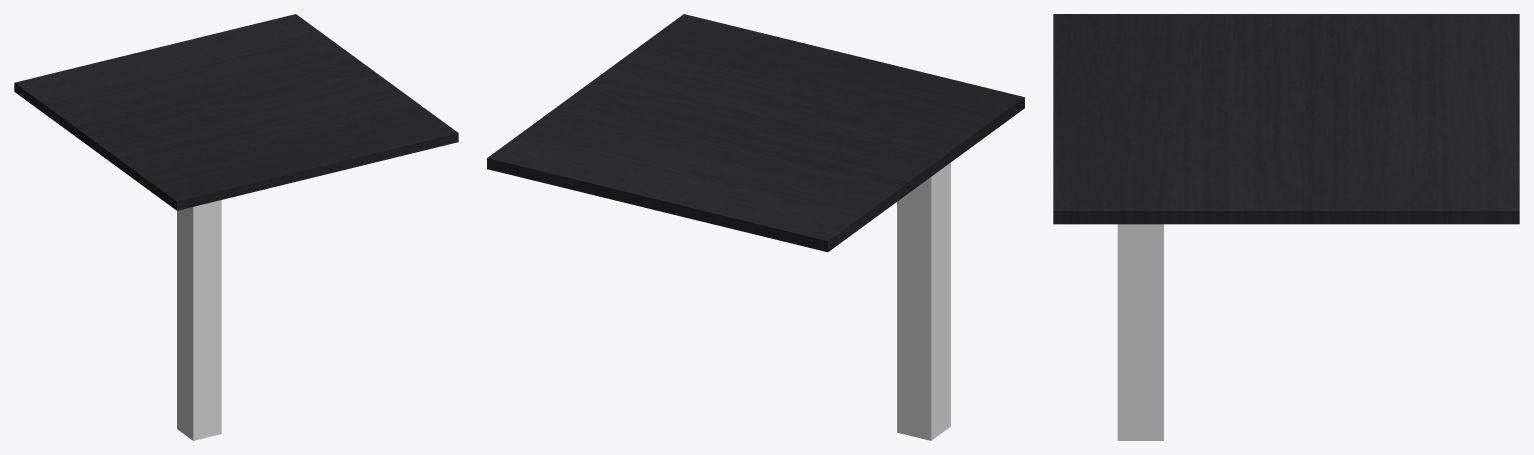
Rendered from sweethome3d-lucapresidente-desk-extension.glb.
The picture shows the model from 3 angles, left to right: view 1: azimuth 30°, elevation 25°; view 2: azimuth 150°, elevation 25°; view 3: azimuth 270°, elevation 25°; orthographic projection. The views are drawn at different scales.
Parts seen in each view (by area): view 1: Box36_2, Box37_1; view 2: Box36_2, Box37_1; view 3: Box36_2, Box37_1.
Boxes of the visible parts, x1,y1,x2,y2 form: Box36_2: (14,14,458,210); Box37_1: (177,200,221,440); Box36_2: (487,14,1024,252); Box37_1: (897,162,950,440); Box36_2: (1053,14,1519,224); Box37_1: (1117,224,1163,440).
Size of the model in its own units: 80 by 72 by 80.
Materials: 2 (1 with a texture image).
